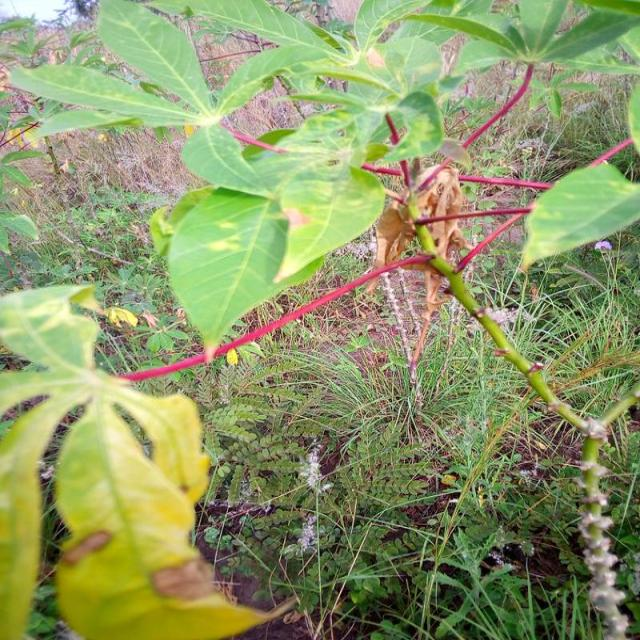cassava leaf: (52, 389, 292, 638), (518, 160, 638, 273)
